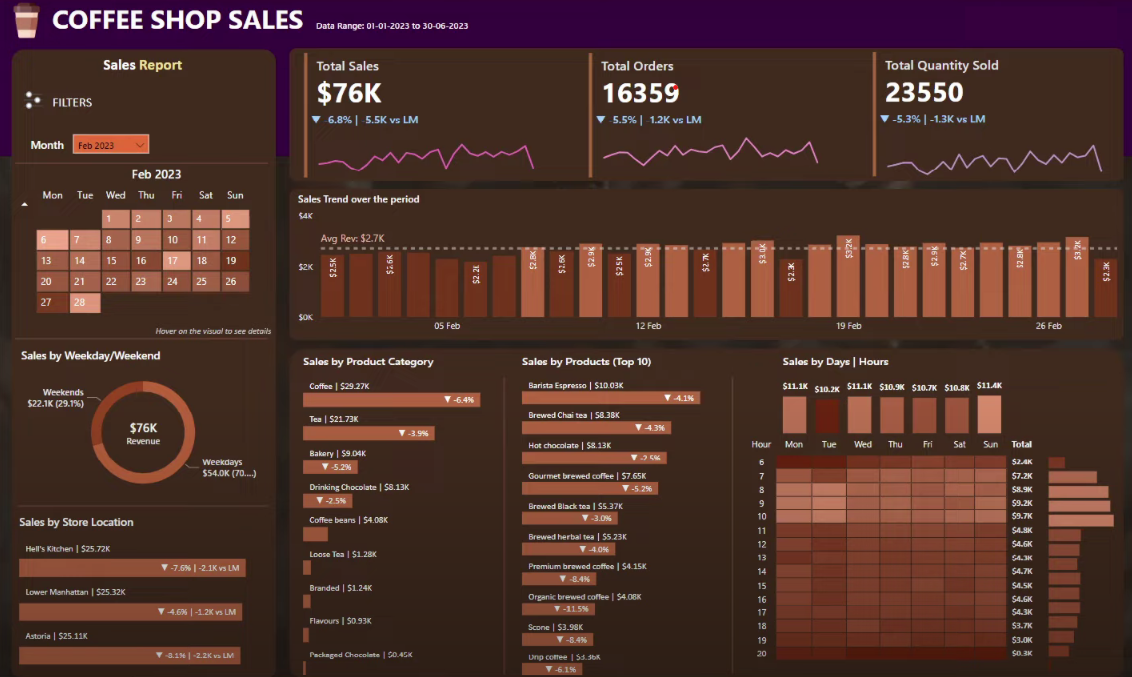

The dashboard page shown, as its layout file describes it:
{"tool":"powerbi","page":{"name":"Page 1","canvas":[1400,850],"ordinal":0},"visuals":[{"type":"shape","box":[0,0,1400.1,199.4],"z":0},{"type":"shape","box":[24.2,74.1,326.2,776.2],"z":1000},{"type":"shape","box":[374.6,74.1,1005.5,176.6],"z":2000},{"type":"textbox","box":[73.5,13.5,376.7,61.5],"z":3000},{"type":"cardVisual","fields":{"Data":["Transactions.Total Sales"]},"box":[397.7,85.5,300.2,165.1],"z":4000,"group":"g1"},{"type":"cardVisual","fields":{"Data":["Transactions.Total Orders"]},"box":[731.5,85.5,300.2,165.1],"z":4000,"group":"g2"},{"type":"cardVisual","fields":{"Data":["Transactions.Total Quantity Sold"]},"box":[1065.4,85.5,300.2,165.1],"z":4000,"group":"g3"},{"type":"slicer","fields":{"Values":["Date Table.Month Year"]},"box":[132.5,160.9,129.6,38.5],"z":4000},{"type":"group","id":"g1","title":"Group 1","box":[397.7,85.5,301.7,165.1],"z":5000},{"type":"lineChart","fields":{"Y":["Transactions.Total Sales"],"Category":["Date Table.Date.Variation.Date Hierarchy.Year","Date Table.Date.Variation.Date Hierarchy.Quarter","Date Table.Date.Variation.Date Hierarchy.Month","Date Table.Date.Variation.Date Hierarchy.Day"]},"box":[412.7,160.5,286.7,85.5],"z":5001,"group":"g1"},{"type":"lineChart","fields":{"Category":["Date Table.Date.Variation.Date Hierarchy.Year","Date Table.Date.Variation.Date Hierarchy.Quarter","Date Table.Date.Variation.Date Hierarchy.Month","Date Table.Date.Variation.Date Hierarchy.Day"],"Y":["Transactions.Total Orders"]},"box":[746.5,160.5,286.7,85.5],"z":5001,"group":"g2"},{"type":"lineChart","fields":{"Category":["Date Table.Date.Variation.Date Hierarchy.Year","Date Table.Date.Variation.Date Hierarchy.Quarter","Date Table.Date.Variation.Date Hierarchy.Month","Date Table.Date.Variation.Date Hierarchy.Day"],"Y":["Transactions.Total Quantity Sold"]},"box":[1080.4,160.5,286.7,85.5],"z":5001,"group":"g3"},{"type":"group","id":"g2","title":"Group 1","box":[731.5,85.5,301.7,165.1],"z":6000},{"type":"group","id":"g3","title":"Group 1","box":[1065.4,85.5,301.9,165.2],"z":7000},{"type":"pivotTable","fields":{"Rows":["Date Table.Week Number"],"Columns":["Date Table.Day Name"],"Values":["Min(Date Table.Day Number)"]},"box":[34.2,230.7,314.8,178],"z":8000},{"type":"card","fields":{"Values":["Min(Date Table.Month Year)"]},"box":[132.5,210.8,95.4,31.3],"z":9000},{"type":"card","fields":{"Values":["Transactions.Foot Note"]},"box":[149.5,397.4,189.4,22.8],"z":10000},{"type":"shape","box":[24.2,420.2,324.7,17.1],"z":11000},{"type":"shape","box":[25.6,203.7,324.7,7.1],"z":12000},{"type":"donutChart","title":"Sales by Weekday / Weekend","fields":{"Category":["Date Table.Weekday / Weekend"],"Y":["Transactions.Total Sales"]},"box":[34.2,437.3,307.6,195.1],"z":13000},{"type":"card","fields":{"Values":["Transactions.Total Sales"]},"box":[133.9,512.7,108.2,45.6],"z":14000},{"type":"shape","box":[24.2,623.8,324.7,17.1],"z":15000},{"type":"clusteredBarChart","title":"Sales by Store Location","fields":{"Category":["Transactions.store_location"],"Y":["Transactions.Placeholder","Transactions.Total Sales"]},"box":[31.3,640.9,317.6,202.2],"z":16000},{"type":"shape","box":[374.6,262.1,1005.5,162.4],"z":17000},{"type":"shape","box":[374.6,438.7,1005.5,404.5],"z":18000},{"type":"columnChart","title":"Sales Trend Over the Period","fields":{"Category":["Transactions.transaction_date"],"Y":["Transactions.Total Sales"]},"box":[378.9,266.3,1005.5,158.1],"z":19000},{"type":"clusteredBarChart","title":"Sales by Product Category","fields":{"Y":["Transactions.Placeholder","Transactions.Total Sales"],"Category":["Transactions.product_category"]},"box":[386,448.6,250.7,386],"z":20000},{"type":"shape","box":[626.7,478.6,19.9,364.6],"z":21000},{"type":"clusteredBarChart","title":"Sales by Products (Top 10)","fields":{"Y":["Transactions.Placeholder","Transactions.Total Sales"],"Category":["Transactions.product_type"]},"box":[646.6,448.6,250.7,386],"z":22000},{"type":"shape","box":[877.4,478.6,19.9,364.6],"z":23000},{"type":"pivotTable","fields":{"Rows":["Transactions.Hour"],"Columns":["Date Table.Day Name"],"Values":["Transactions.Total Sales"]},"box":[895.9,522.7,370.3,320.5],"z":24000},{"type":"barChart","fields":{"Category":["Transactions.Hour"],"Y":["Transactions.Total Sales"]},"box":[1234.8,536.9,131,297.7],"z":25000},{"type":"columnChart","title":"Sales by Days | Hours","fields":{"Y":["Transactions.Total Sales"],"Category":["Date Table.Day Name"]},"box":[932.9,448.6,260.6,81.2],"z":26000},{"type":"textbox","box":[47,160.9,86.9,38.5],"z":27000},{"type":"textbox","box":[132.5,74.1,129.6,35.6],"z":28000},{"type":"textbox","box":[91.2,123.9,136.7,37],"z":29000},{"type":"image","box":[51.3,123.9,52.7,29.9],"z":30000},{"type":"image","box":[11.4,0,71.2,74.1],"z":31000}]}

Visuals, with their boxes in screenshot pixels (x1, y1, x2, y2), scaled from the page's 1400x850 canvas onto the 1132x677 screenshot:
shape: <bbox>0, 0, 1131, 159</bbox>
shape: <bbox>20, 59, 283, 676</bbox>
shape: <bbox>303, 59, 1116, 200</bbox>
textbox: <bbox>59, 11, 364, 60</bbox>
cardVisual - Transactions.Total Sales: <bbox>322, 68, 564, 200</bbox>
cardVisual - Transactions.Total Orders: <bbox>591, 68, 834, 200</bbox>
cardVisual - Transactions.Total Quantity Sold: <bbox>861, 68, 1104, 200</bbox>
slicer - Date Table.Month Year: <bbox>107, 128, 212, 159</bbox>
"Group 1" group: <bbox>322, 68, 566, 200</bbox>
lineChart - Transactions.Total Sales x Date Table.Date.Variation.Date Hierarchy.Year: <bbox>334, 128, 566, 196</bbox>
lineChart - Date Table.Date.Variation.Date Hierarchy.Year x Date Table.Date.Variation.Date Hierarchy.Quarter: <bbox>604, 128, 835, 196</bbox>
lineChart - Date Table.Date.Variation.Date Hierarchy.Year x Date Table.Date.Variation.Date Hierarchy.Quarter: <bbox>874, 128, 1105, 196</bbox>
"Group 1" group: <bbox>591, 68, 835, 200</bbox>
"Group 1" group: <bbox>861, 68, 1106, 200</bbox>
pivotTable - Date Table.Week Number x Date Table.Day Name: <bbox>28, 184, 282, 326</bbox>
card - Min(Date Table.Month Year): <bbox>107, 168, 184, 193</bbox>
card - Transactions.Foot Note: <bbox>121, 317, 274, 335</bbox>
shape: <bbox>20, 335, 282, 348</bbox>
shape: <bbox>21, 162, 283, 168</bbox>
"Sales by Weekday / Weekend" donutChart: <bbox>28, 348, 276, 504</bbox>
card - Transactions.Total Sales: <bbox>108, 408, 196, 445</bbox>
shape: <bbox>20, 497, 282, 510</bbox>
"Sales by Store Location" clusteredBarChart: <bbox>25, 510, 282, 672</bbox>
shape: <bbox>303, 209, 1116, 338</bbox>
shape: <bbox>303, 349, 1116, 672</bbox>
"Sales Trend Over the Period" columnChart: <bbox>306, 212, 1119, 338</bbox>
"Sales by Product Category" clusteredBarChart: <bbox>312, 357, 515, 665</bbox>
shape: <bbox>507, 381, 523, 672</bbox>
"Sales by Products (Top 10)" clusteredBarChart: <bbox>523, 357, 726, 665</bbox>
shape: <bbox>709, 381, 726, 672</bbox>
pivotTable - Transactions.Hour x Date Table.Day Name: <bbox>724, 416, 1024, 672</bbox>
barChart - Transactions.Hour x Transactions.Total Sales: <bbox>998, 428, 1104, 665</bbox>
"Sales by Days | Hours" columnChart: <bbox>754, 357, 965, 422</bbox>
textbox: <bbox>38, 128, 108, 159</bbox>
textbox: <bbox>107, 59, 212, 87</bbox>
textbox: <bbox>74, 99, 184, 128</bbox>
image: <bbox>41, 99, 84, 122</bbox>
image: <bbox>9, 0, 67, 59</bbox>
